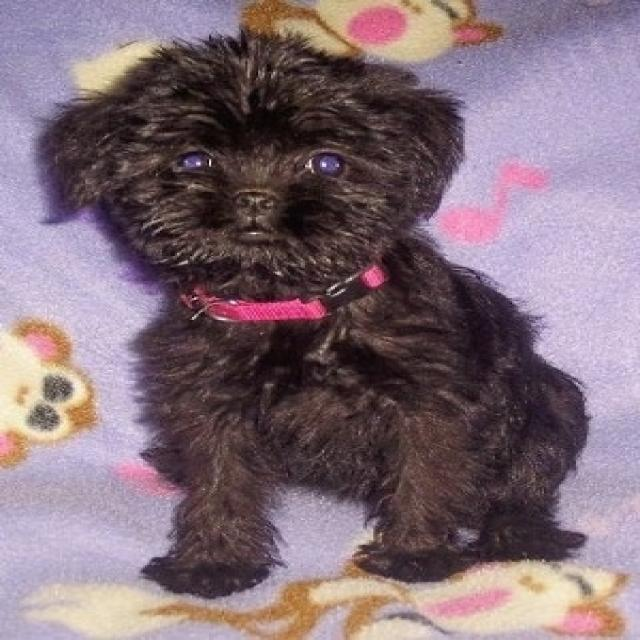dog: (55, 24, 482, 322)
